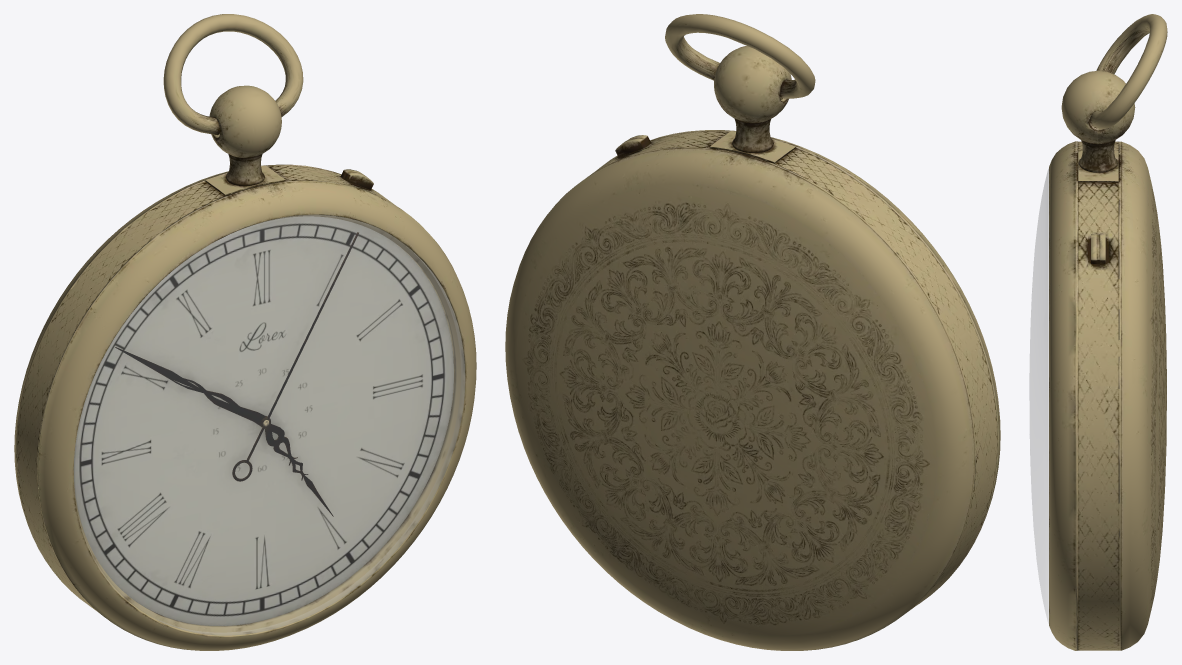
File: pocket_watch.glb
3 views of the same model, side by side, from view 1: azimuth 30°, elevation 25°; view 2: azimuth 150°, elevation 25°; view 3: azimuth 270°, elevation 25° (orthographic). The views are drawn at different scales.
Visible parts, largest first — view 1: pocket_watch_button, pocket_watch_frame; view 2: pocket_watch_button; view 3: pocket_watch_button, pocket_watch_frame.
Boxes of the visible parts, bbox=[...] form: pocket_watch_button: bbox=[14, 14, 476, 650]; pocket_watch_frame: bbox=[74, 215, 464, 635]; pocket_watch_button: bbox=[505, 14, 1000, 650]; pocket_watch_button: bbox=[1049, 14, 1167, 650]; pocket_watch_frame: bbox=[1029, 169, 1048, 623].
Size of the model in its own units: 0.0577 by 0.0756 by 0.0156.
Materials: 2 (1 with a texture image).
